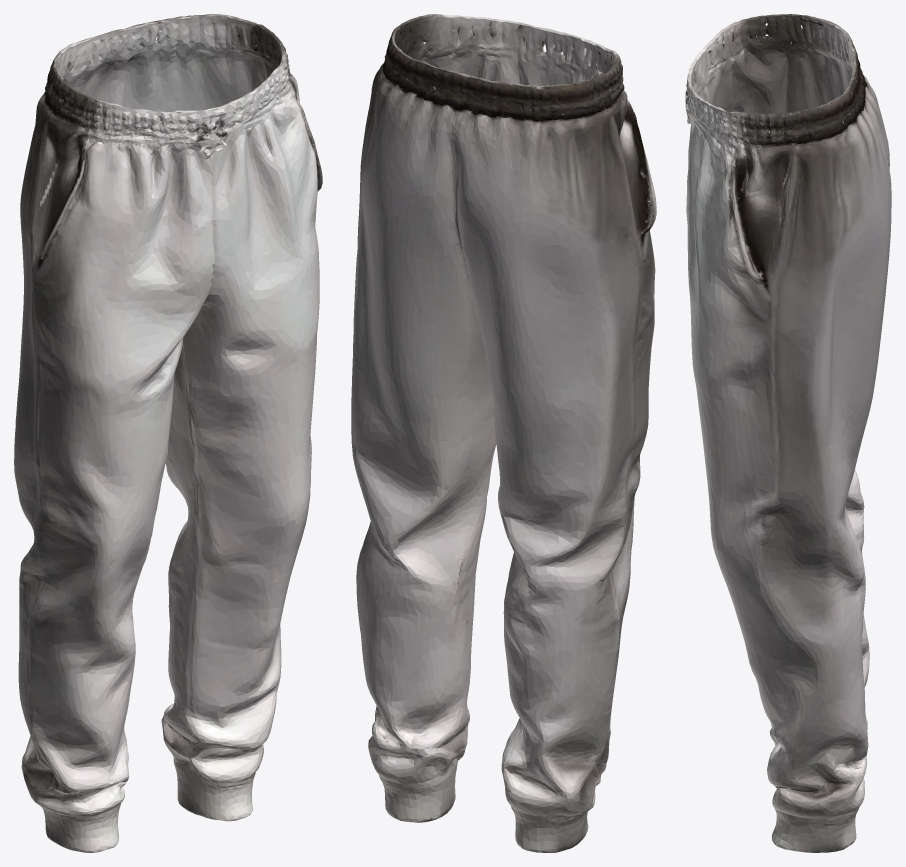
The model's file is trackpants.glb.
3 views of the same model, side by side, from view 1: azimuth 30°, elevation 25°; view 2: azimuth 150°, elevation 25°; view 3: azimuth 270°, elevation 25° (orthographic). The views are drawn at different scales.
Visible parts, largest first — view 1: world; view 2: world; view 3: world.
Boxes of the visible parts, <box> form: world: <box>14,14,322,852</box>; world: <box>351,14,656,852</box>; world: <box>685,14,891,852</box>.
Bounding box in the file's own units: 0.7421 × 1.99 × 0.4973.
1 material, 1 textured.
